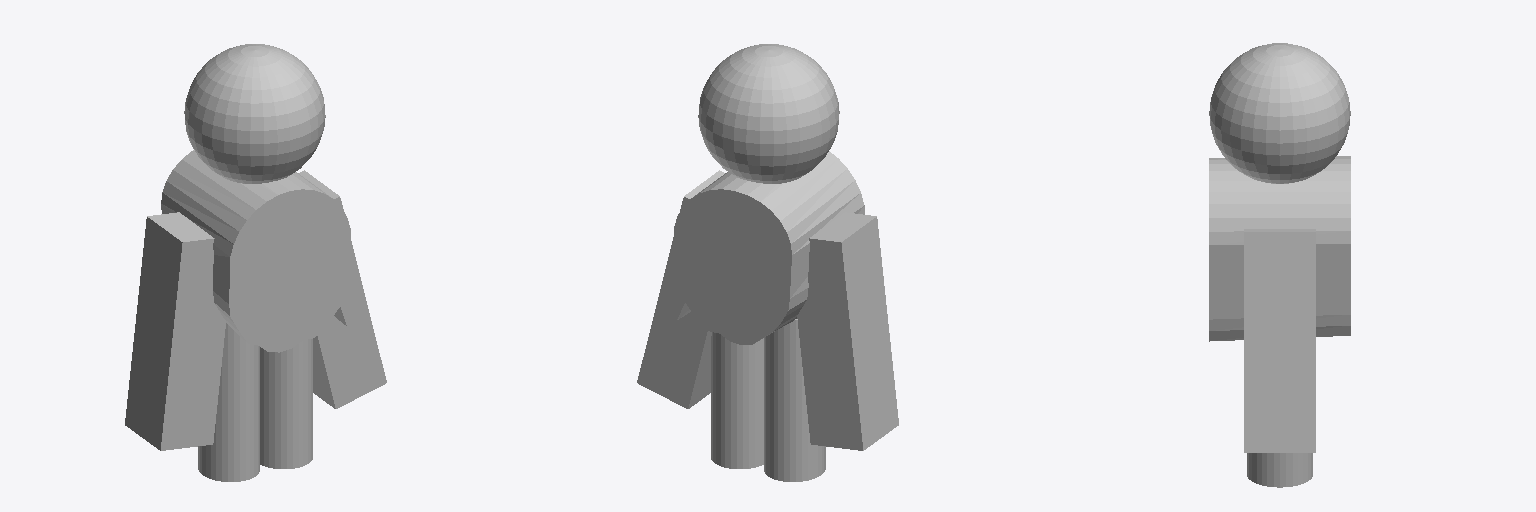
The model's file is Figurine2.obj.
3 renders of one model, left to right at view 1: azimuth 30°, elevation 25°; view 2: azimuth 150°, elevation 25°; view 3: azimuth 270°, elevation 25°, orthographic.
Visible parts, largest first — view 1: Cylinder; view 2: Cylinder; view 3: Cylinder.
Part boxes in pixels (x1,y1,x2,y2): Cylinder: (125, 44, 386, 481); Cylinder: (637, 44, 898, 481); Cylinder: (1209, 43, 1350, 487).
Bounding box in the file's own units: 3.7 × 6.42 × 2.